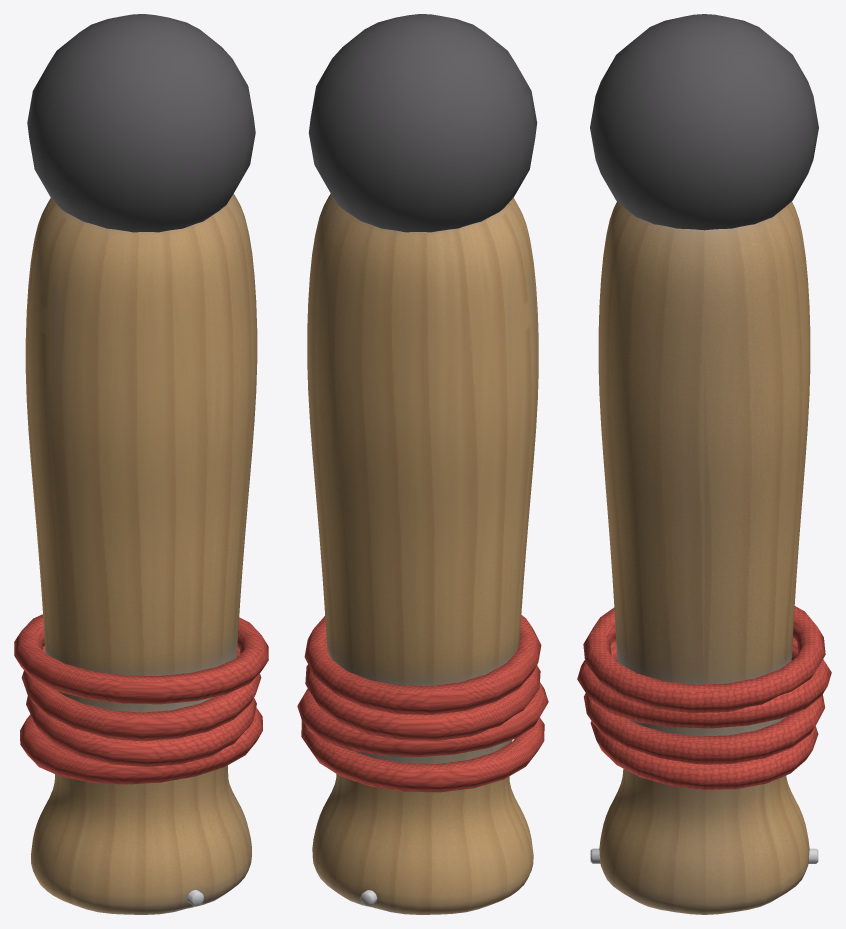
The model's file is LowerLeg_R.glb.
3 renders of one model, left to right at view 1: azimuth 30°, elevation 25°; view 2: azimuth 150°, elevation 25°; view 3: azimuth 270°, elevation 25°, orthographic.
Parts seen in each view (by area): view 1: LowerLeg_R, LowerLeg_R_Ball, LowerLeg_R_Wrap; view 2: LowerLeg_R, LowerLeg_R_Ball, LowerLeg_R_Wrap; view 3: LowerLeg_R, LowerLeg_R_Ball, LowerLeg_R_Wrap.
Part boxes in pixels (bbox=[...]): LowerLeg_R: bbox=[25, 194, 257, 914]; LowerLeg_R_Ball: bbox=[27, 14, 255, 232]; LowerLeg_R_Wrap: bbox=[14, 614, 268, 784]; LowerLeg_R: bbox=[307, 193, 538, 914]; LowerLeg_R_Ball: bbox=[308, 14, 537, 232]; LowerLeg_R_Wrap: bbox=[297, 615, 548, 792]; LowerLeg_R: bbox=[598, 201, 810, 914]; LowerLeg_R_Ball: bbox=[590, 14, 818, 230]; LowerLeg_R_Wrap: bbox=[577, 606, 831, 789].
Size of the model in its own units: 0.1248 by 0.4673 by 0.1267.
Materials: 4 (2 with a texture image).
